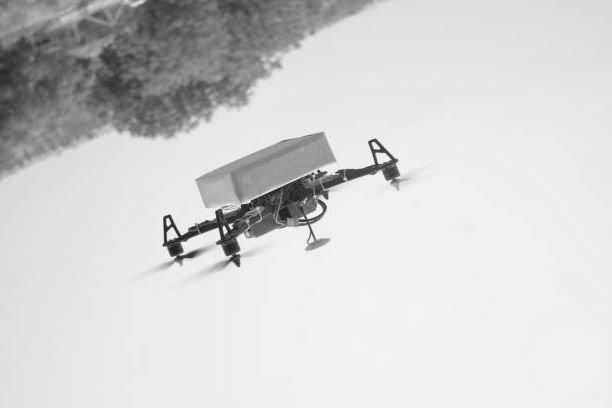Drone: (144, 138, 431, 278)
